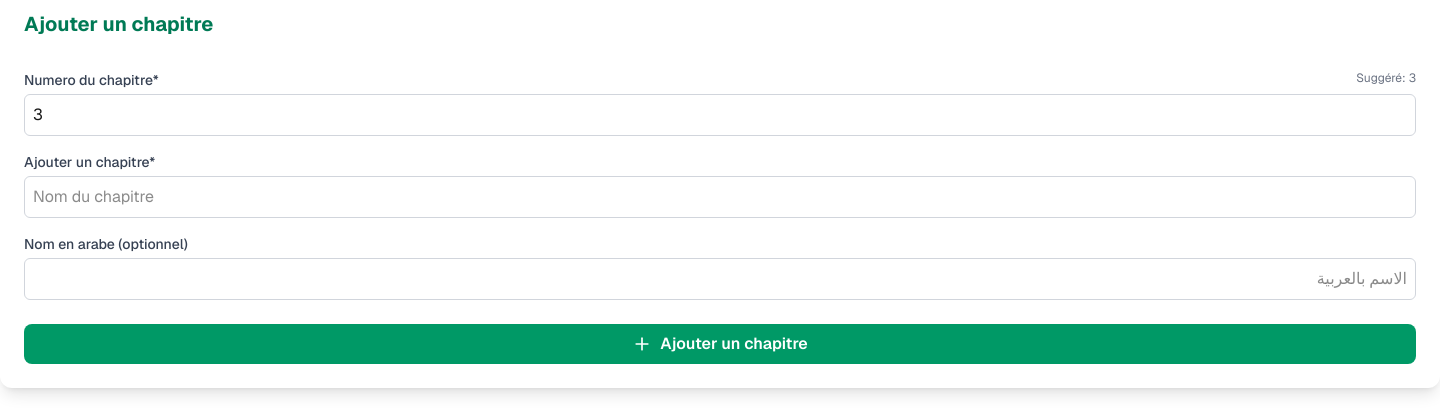
Test: AddItemForm › affiche 'En cours...' sur le bouton pendant la soumission
This screenshot has width=1440, height=414.
Type "Test Chargement" into the field labelled "Ajouter un chapitre*".
click(720, 197); type("Test Chargement")  # box [24,176,1416,218]
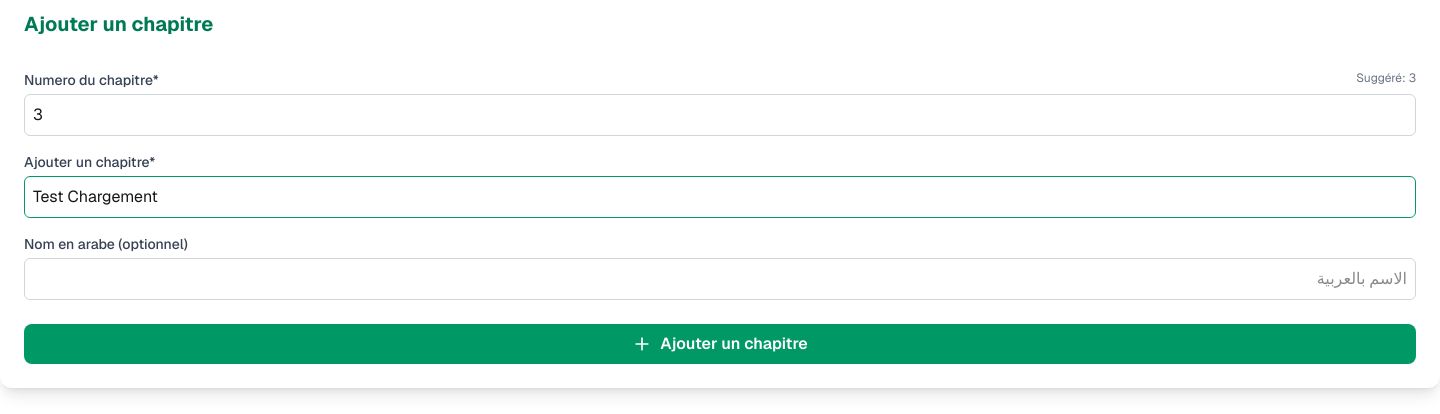
Click the button "Ajouter un chapitre".
click(720, 344)  # box [24,324,1416,364]
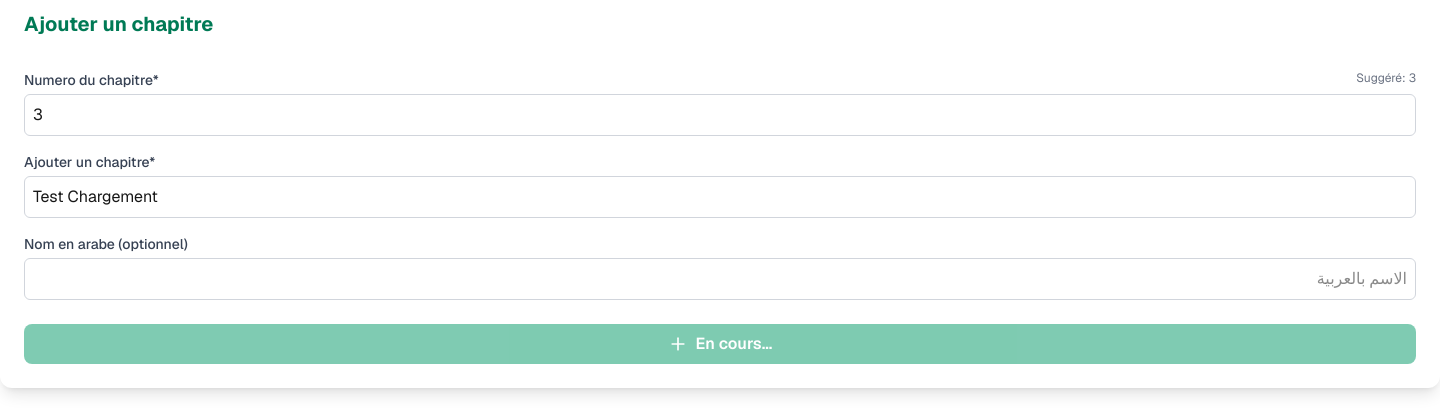
Now the button "En cours..." is disabled, box [24,324,1416,364]
